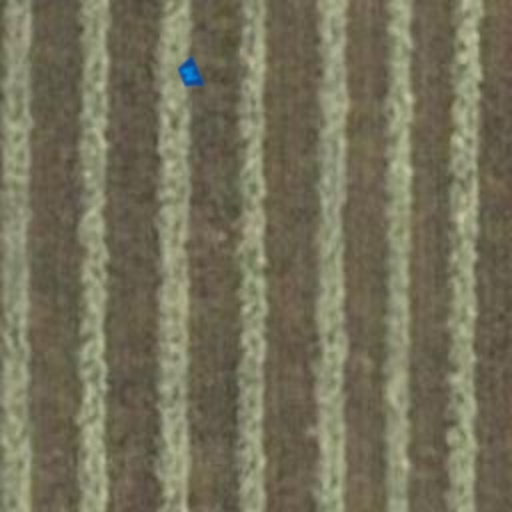trapezoid: (168, 52, 212, 96)
